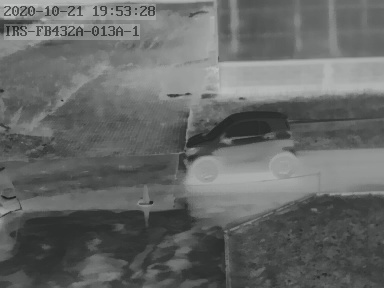vehicle: (175, 106, 306, 187)
